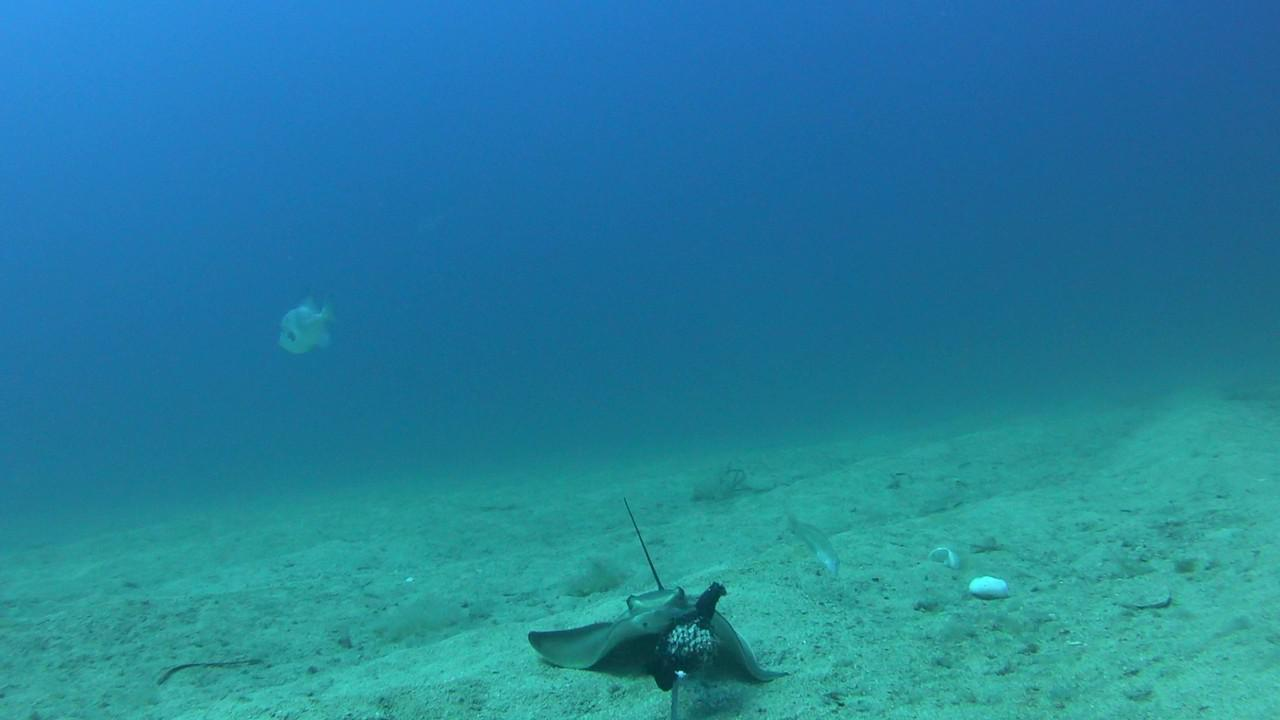balistes: (277, 294, 344, 362)
myliobatis: (510, 483, 796, 690)
raor: (784, 515, 840, 584)
